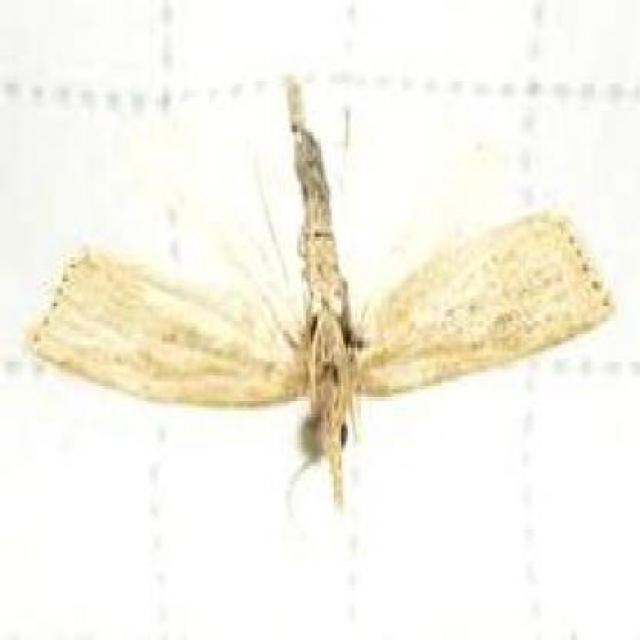stem-borer: (29, 100, 618, 511)
